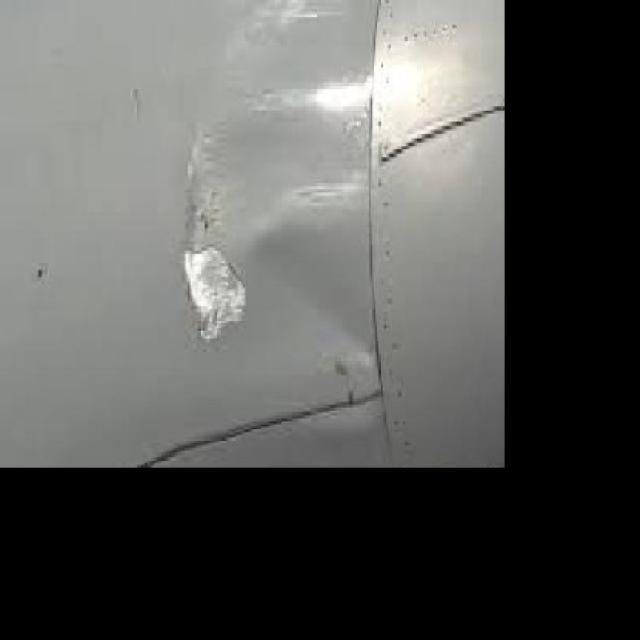dent: (250, 267, 390, 413), (189, 135, 250, 337)
